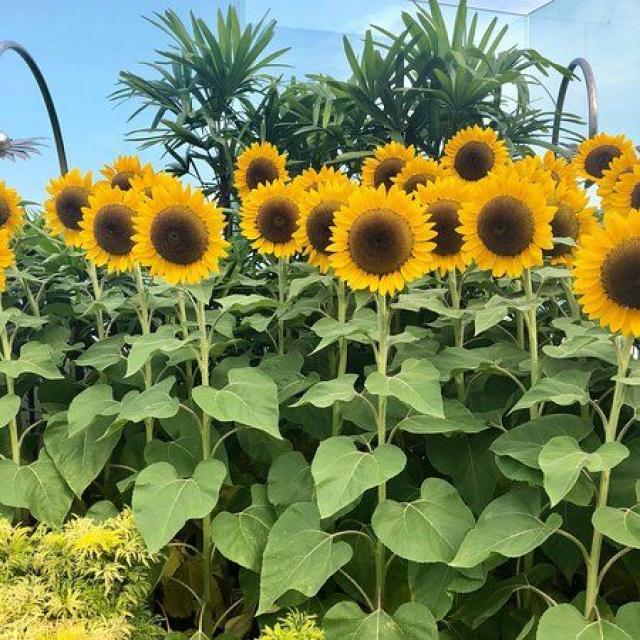sunflower: (324, 182, 437, 296), (455, 170, 556, 278), (130, 180, 230, 284), (570, 206, 639, 337), (76, 182, 146, 275), (292, 178, 357, 274), (412, 174, 472, 274), (238, 178, 308, 258), (542, 174, 596, 266), (41, 168, 96, 248), (438, 122, 508, 182), (572, 130, 638, 186), (232, 140, 288, 197), (360, 140, 416, 190), (594, 151, 640, 202), (390, 155, 441, 195), (100, 154, 152, 190), (292, 163, 348, 194), (532, 152, 576, 190), (609, 164, 640, 217), (128, 168, 176, 202), (0, 180, 24, 240), (0, 229, 14, 293), (507, 155, 537, 171)
